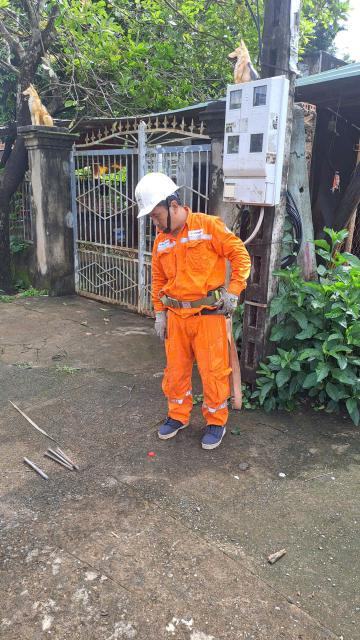gloves: (222, 286, 243, 323), (150, 308, 173, 339)
harness: (164, 292, 218, 314)
helmet: (127, 163, 185, 209)
shoes: (157, 401, 184, 444), (198, 423, 228, 456)
